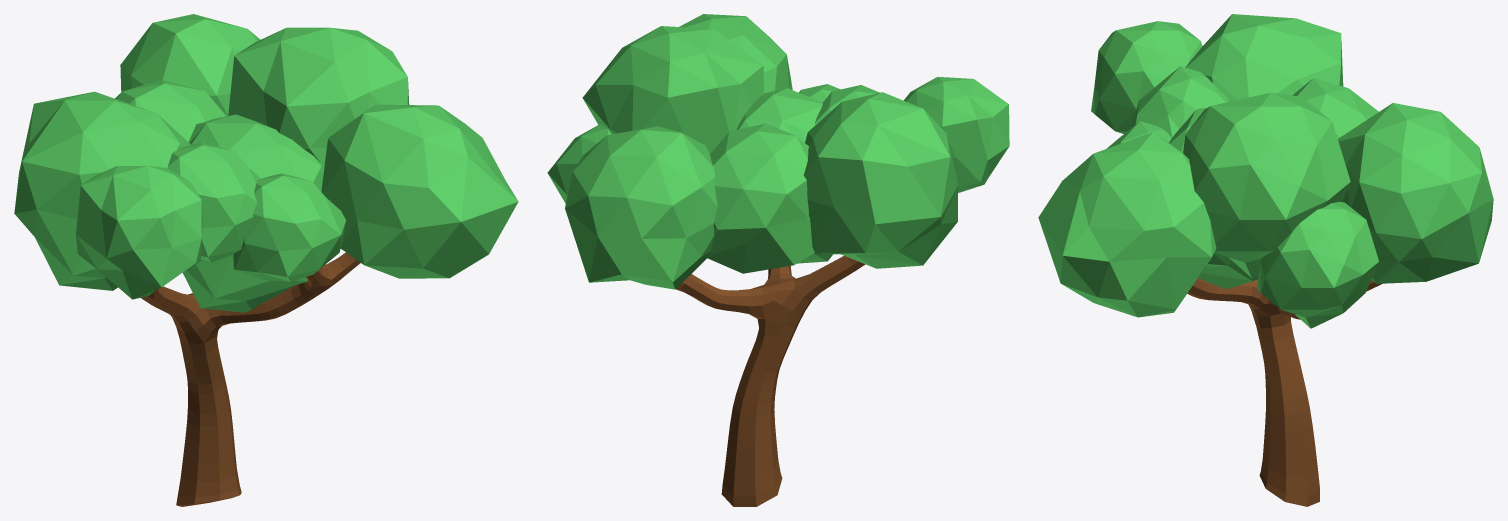
File: LowpolyTrees02.fbx
3 views of the same model, side by side, from view 1: azimuth 30°, elevation 25°; view 2: azimuth 150°, elevation 25°; view 3: azimuth 270°, elevation 25° (orthographic). The views are drawn at different scales.
Visible parts, largest first — view 1: Icosphere.002, Plane.003; view 2: Icosphere.002, Plane.003; view 3: Icosphere.002, Plane.003.
Boxes of the visible parts, bbox=[...] form: Icosphere.002: bbox=[14, 14, 518, 312]; Plane.003: bbox=[140, 252, 360, 506]; Icosphere.002: bbox=[547, 14, 1009, 289]; Plane.003: bbox=[676, 256, 865, 506]; Icosphere.002: bbox=[1038, 14, 1493, 328]; Plane.003: bbox=[1187, 278, 1382, 506].
Bounding box in the file's own units: 595 × 653 × 608.
